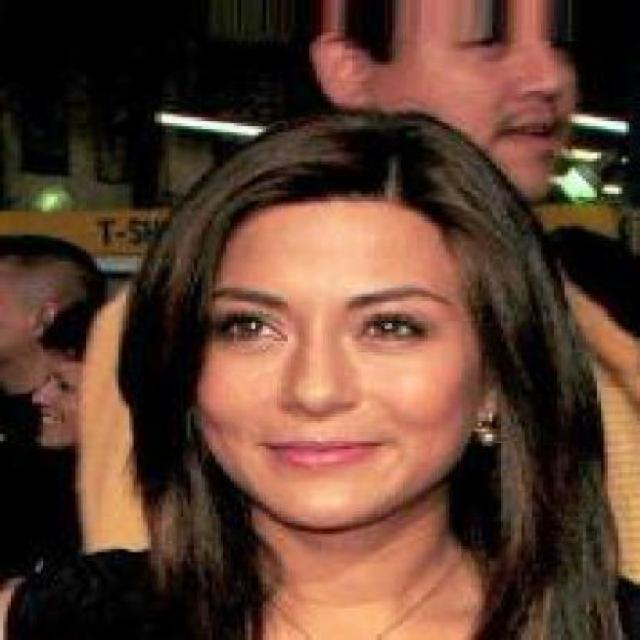closed-mouth: (258, 431, 377, 466)
